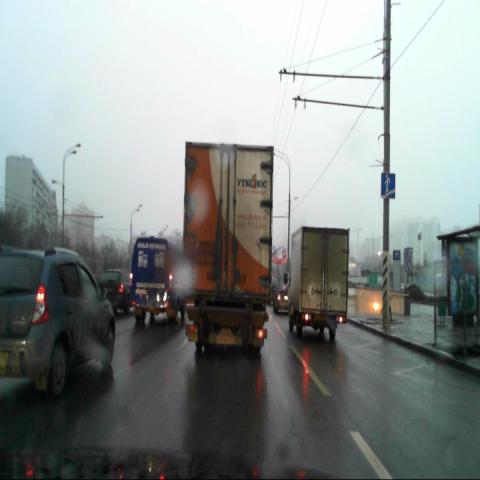6_6: (381, 173, 395, 197)
